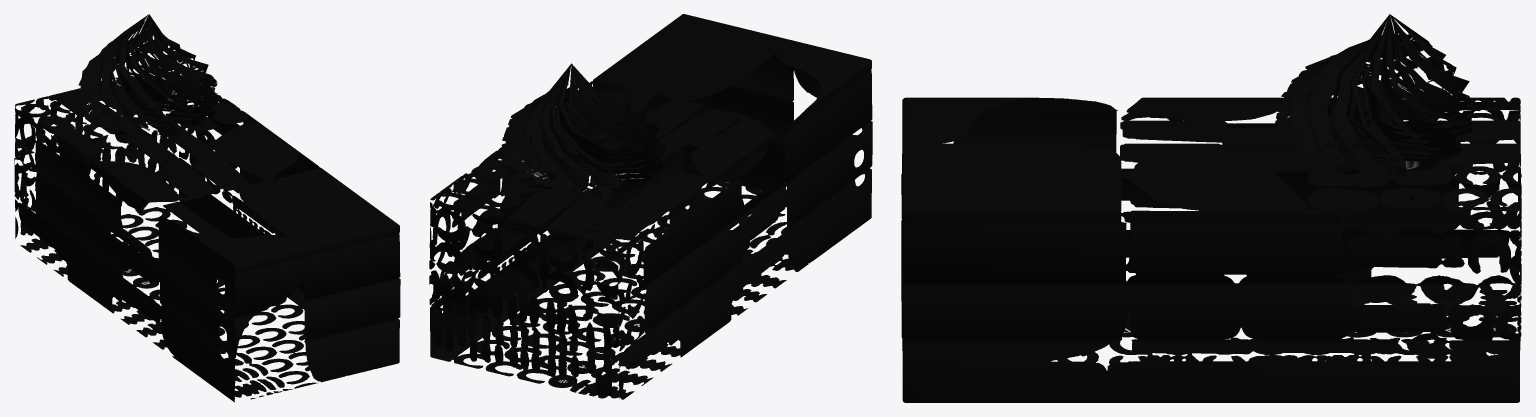
The model's file is Cake.fbx.
3 views of the same model, side by side, from view 1: azimuth 30°, elevation 25°; view 2: azimuth 150°, elevation 25°; view 3: azimuth 270°, elevation 25° (orthographic). The views are drawn at different scales.
Visible parts, largest first — view 1: Cake; view 2: Cake; view 3: Cake.
Part boxes in pixels (left/top/right/bottom): Cake: left=14, top=14, right=400, bottom=402; Cake: left=429, top=14, right=872, bottom=399; Cake: left=901, top=14, right=1521, bottom=402.
Size of the model in its own units: 0.863 by 1.2 by 2.
